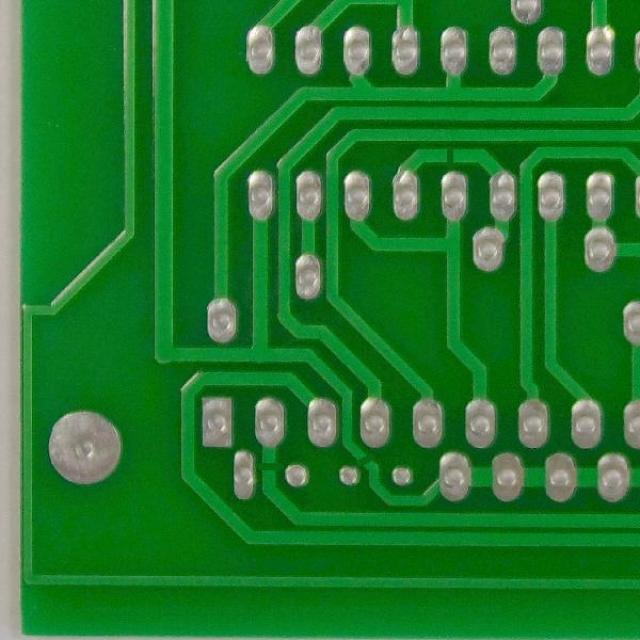open_circuit: (352, 451, 375, 476), (437, 145, 460, 168), (258, 459, 282, 481)
